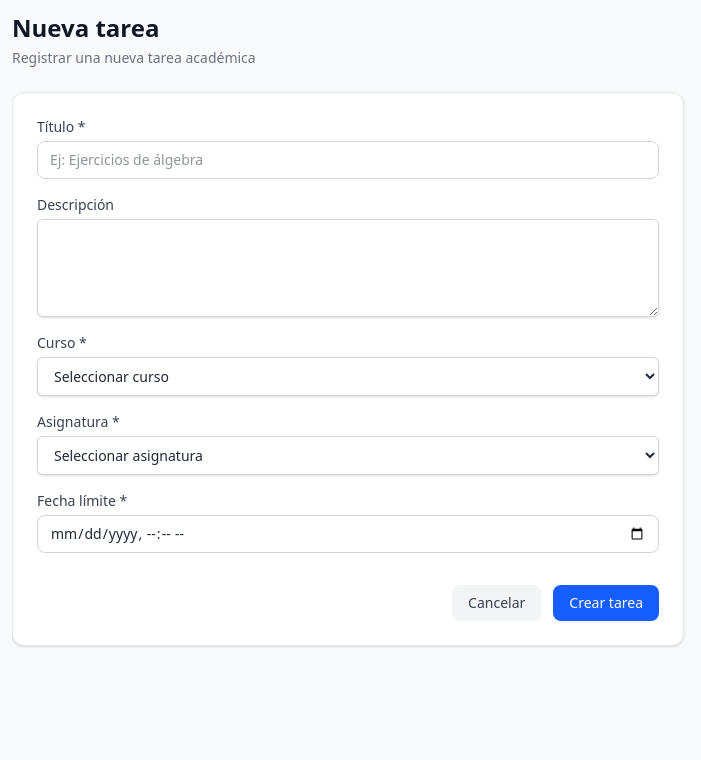
TaskFormPage › shows validation errors on empty submit
Click the button "Crear tarea" at (606, 603), box x1=553 y1=585 x2=659 y2=621
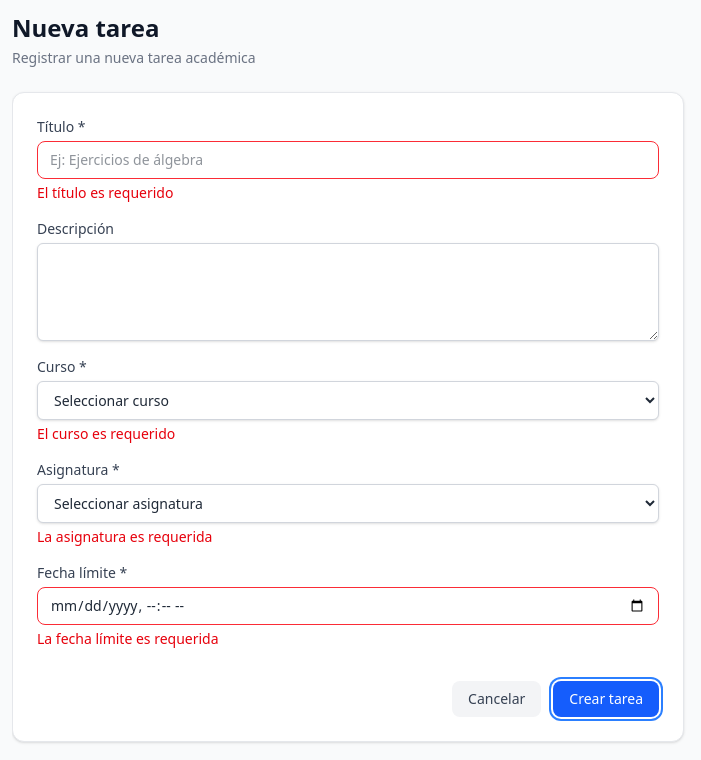
Check: the text "El título es requerido" is shown, box x1=37 y1=183 x2=173 y2=202
Check: the text "El curso es requerido" is shown, box x1=37 y1=424 x2=175 y2=443
Check: the text "La asignatura es requerida" is shown, box x1=37 y1=527 x2=212 y2=546
